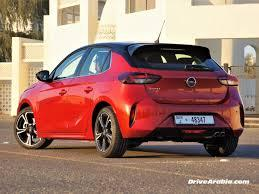opel: (184, 74, 199, 87)
